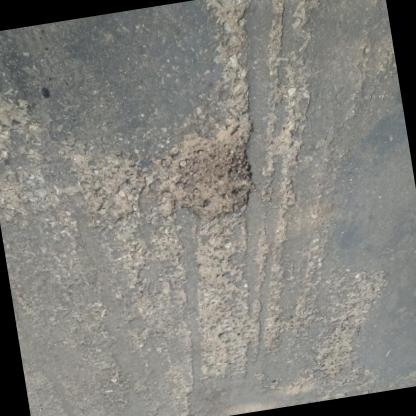pothole: (163, 116, 269, 228)
